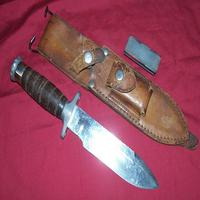knife: (5, 56, 162, 193)
